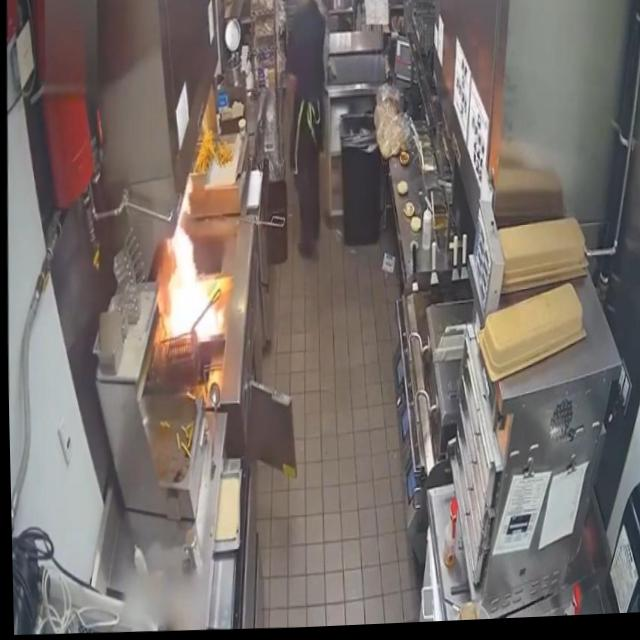fire: (153, 178, 221, 352)
